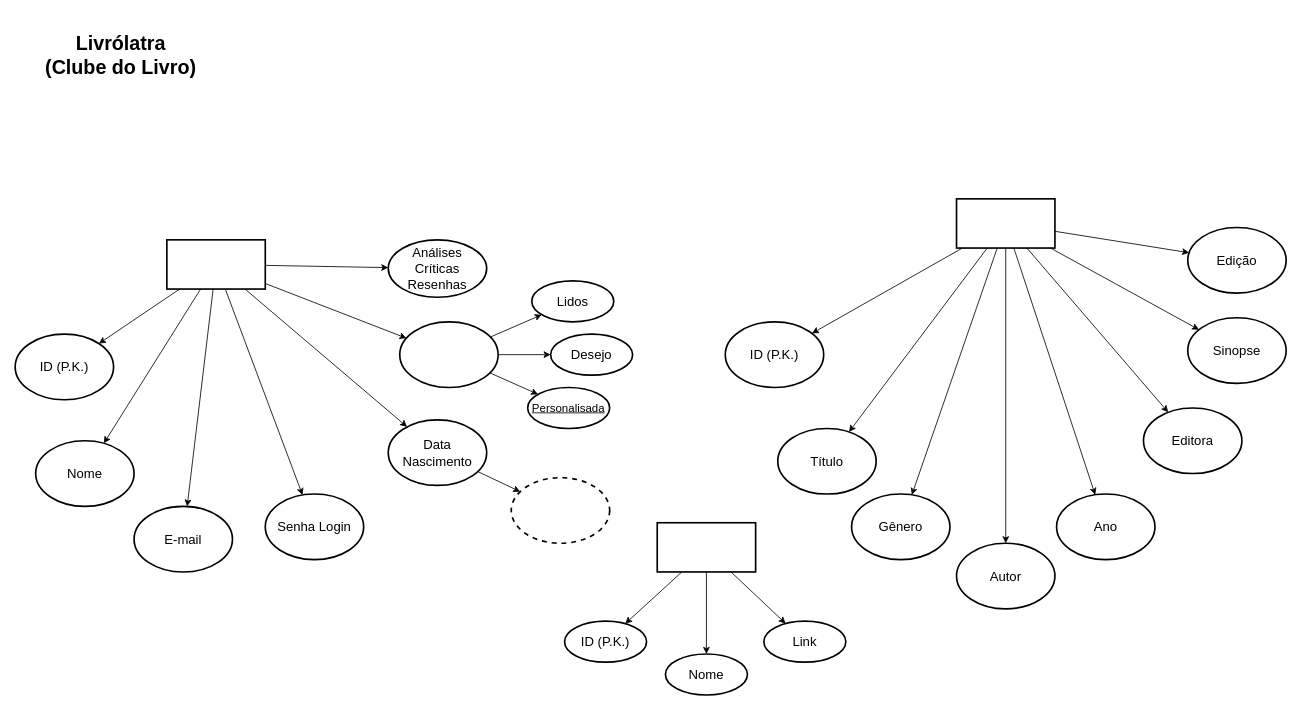
The diagram is 1301 pixels wide and 709 high, and some of its shapes have lost their labels. The centre of each missing label's shape, as x and y in pixels:
"Idade" belongs at [560,510].
"Leitor" belongs at [216,264].
"Lista Livros" belongs at [449,354].
"Livros" belongs at [1005,223].
"Redes Sociais" belongs at [706,547].
